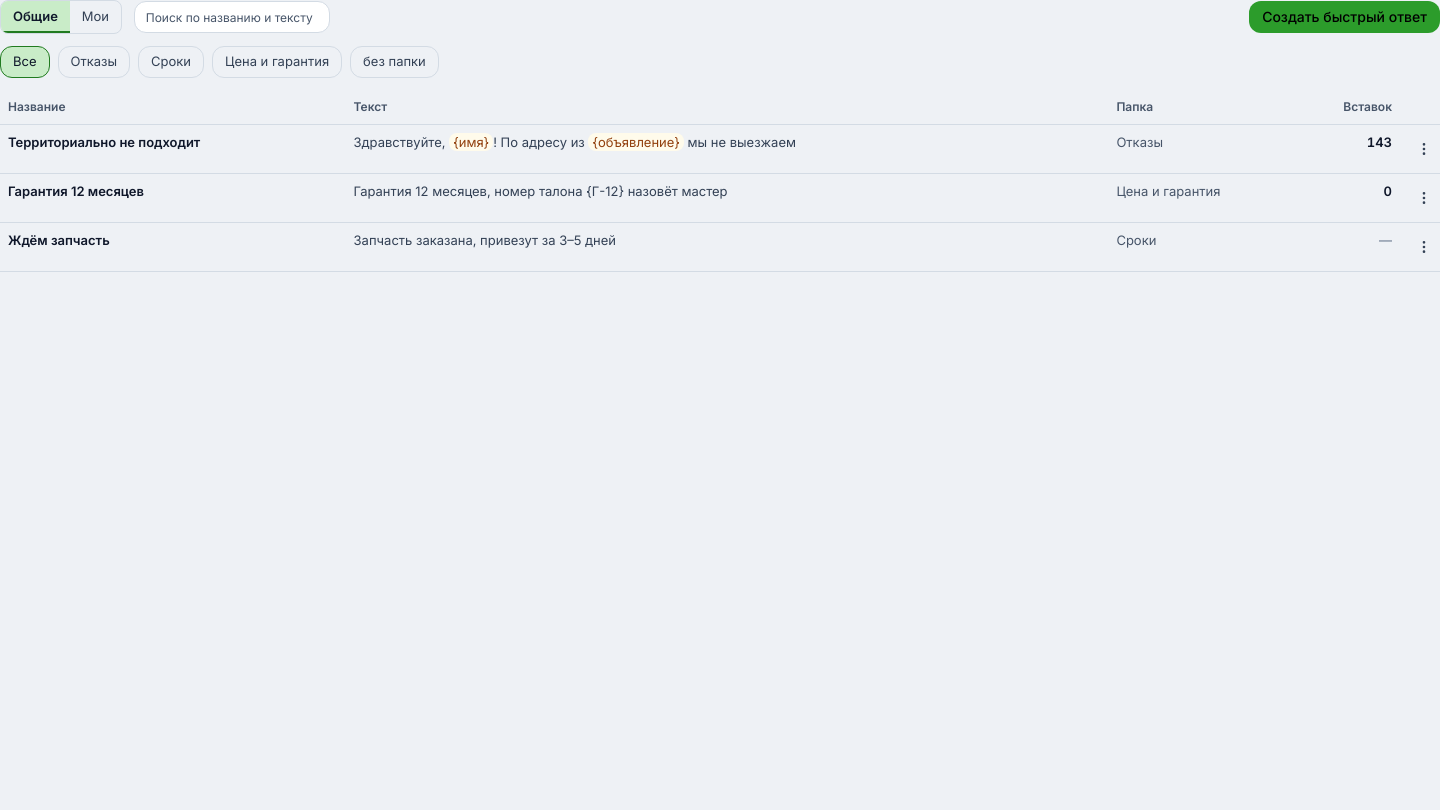
it: Кто видит: правило стоит там, где по нему могли бы кликнуть › у личного ответа сказано, что перевести его в общий нельзя
Expected: the table is shown, [0, 90, 1439, 272]
Click the tab "Мои" at (95, 17), box [70, 1, 121, 33]
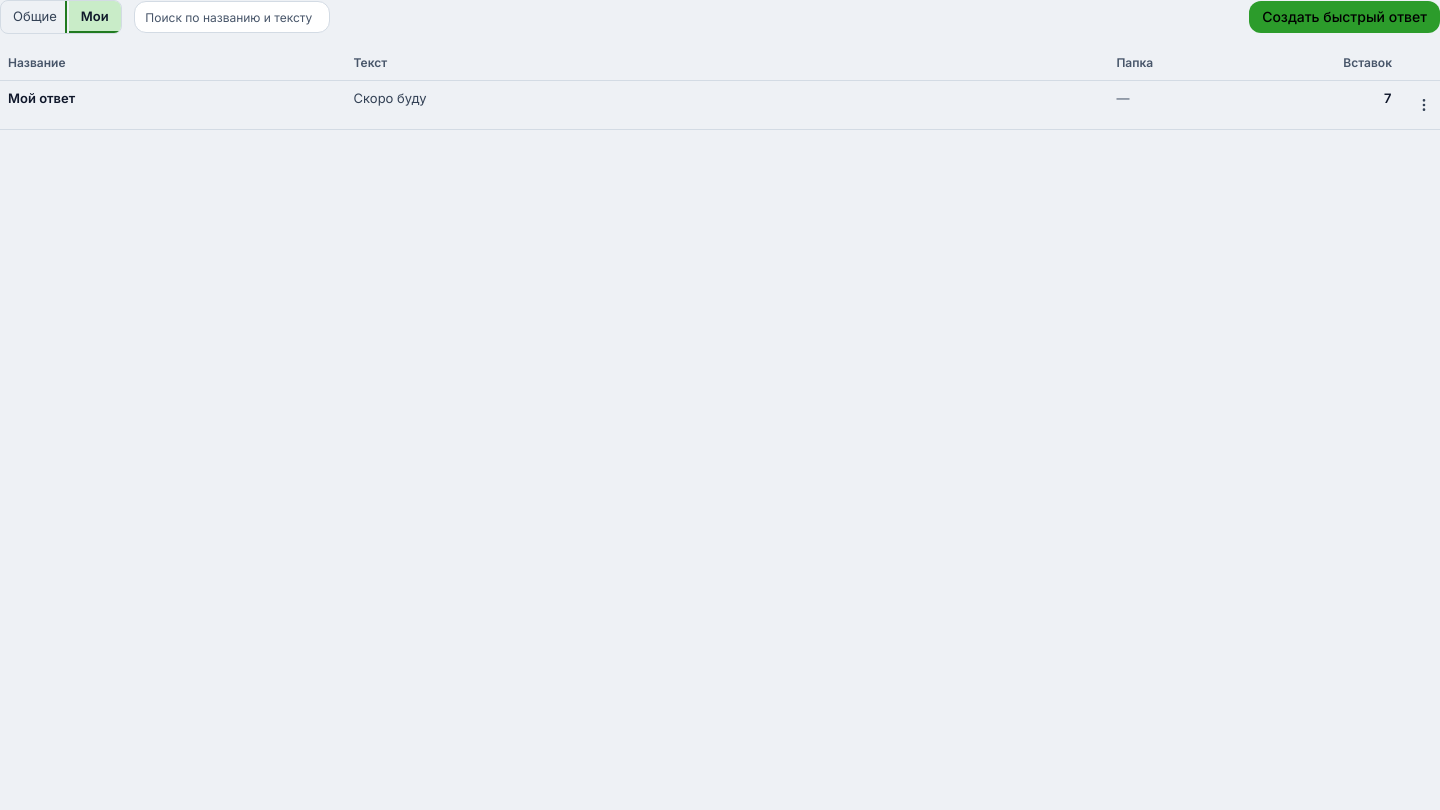
Click the button named "Действия: Мой ответ" at (1424, 105), box [1408, 89, 1439, 121]
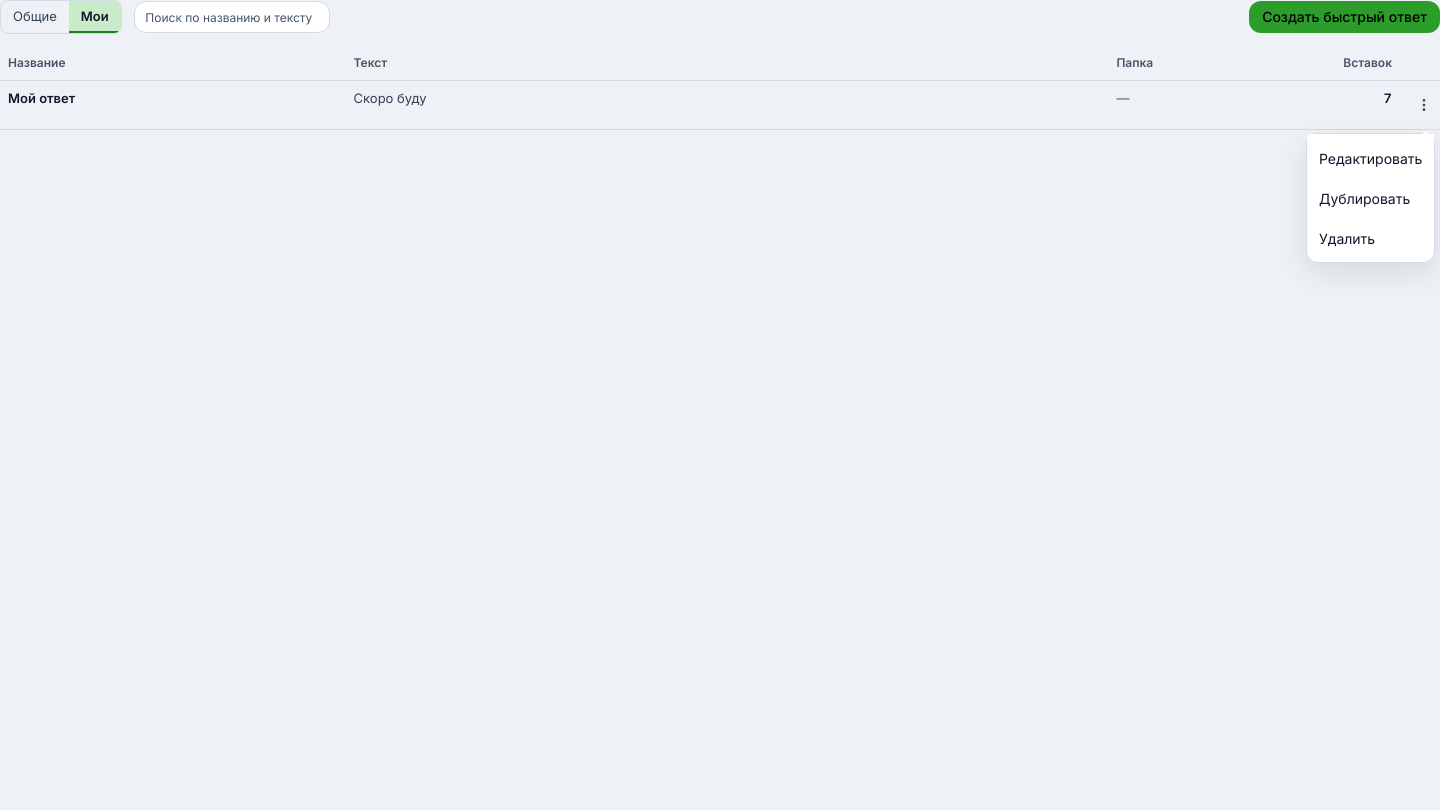
Click the menu item "Редактировать" at (1370, 158), box [1311, 138, 1430, 178]
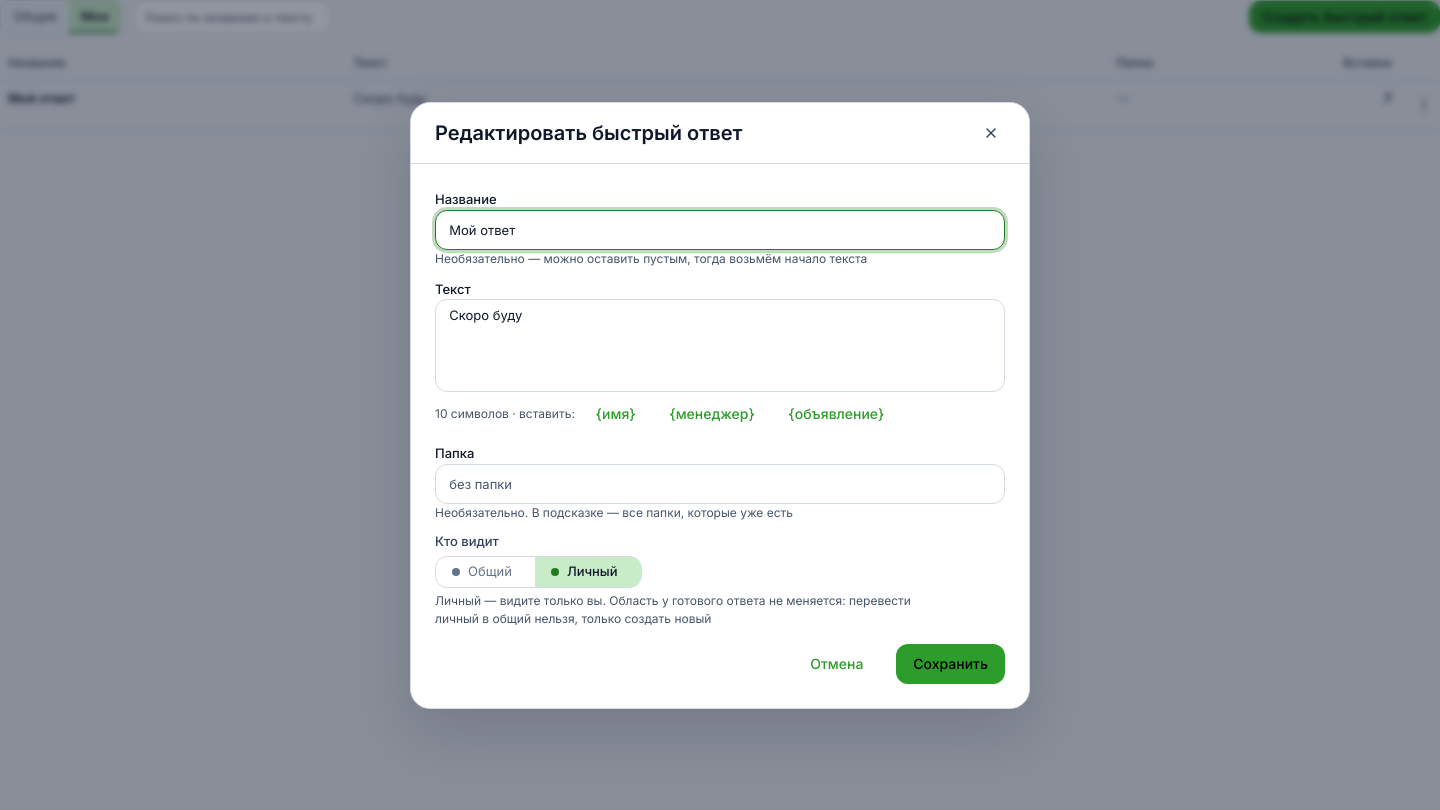
Result: the element "Кто видит" shows "перевести личный в общий нельзя" at [435, 592, 911, 625]
